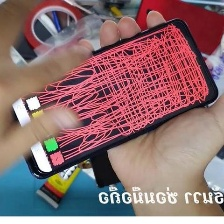phone: (0, 12, 220, 183), (127, 0, 224, 63)
